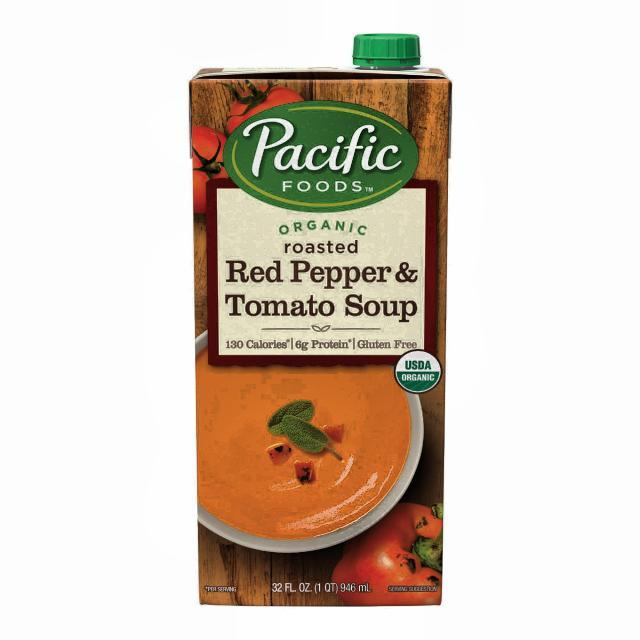cardboard: (190, 64, 450, 606)
